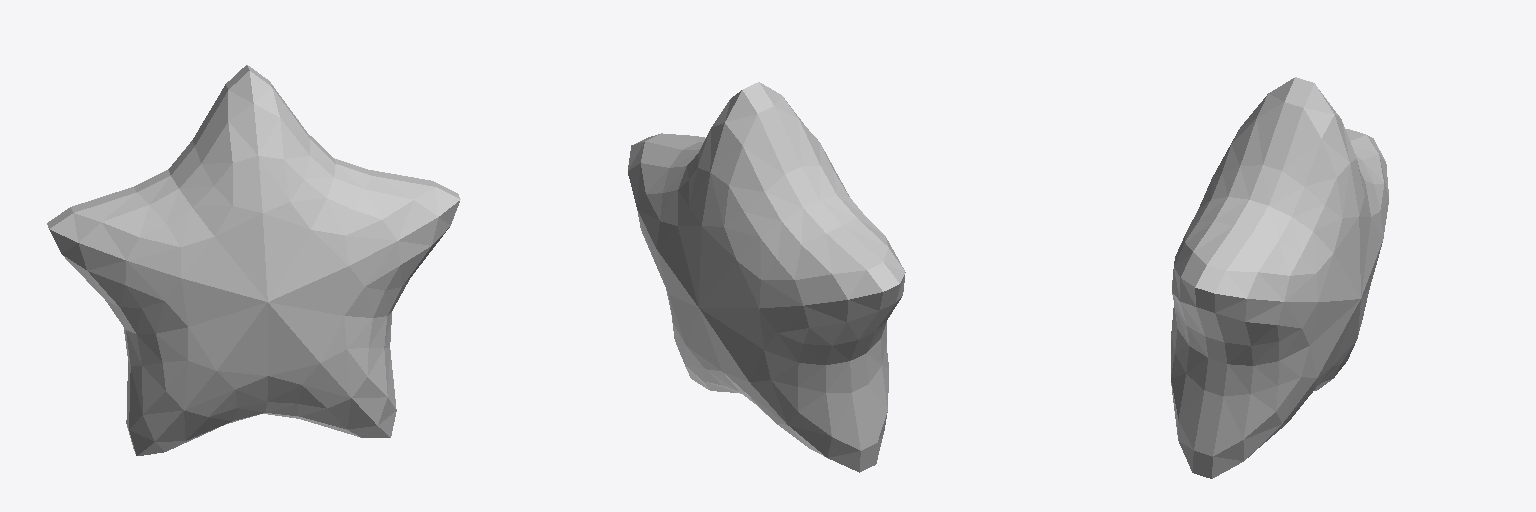
File: star.obj
3 renders of one model, left to right at view 1: azimuth 30°, elevation 25°; view 2: azimuth 150°, elevation 25°; view 3: azimuth 270°, elevation 25°, orthographic.
Parts seen in each view (by area): view 1: etoile.001; view 2: etoile.001; view 3: etoile.001.
Part boxes in pixels (x1,y1,x2,y2): etoile.001: (47,65,460,455); etoile.001: (628,82,905,472); etoile.001: (1171,77,1388,478).
Bounding box in the file's own units: 0.4701 × 0.476 × 0.2626.